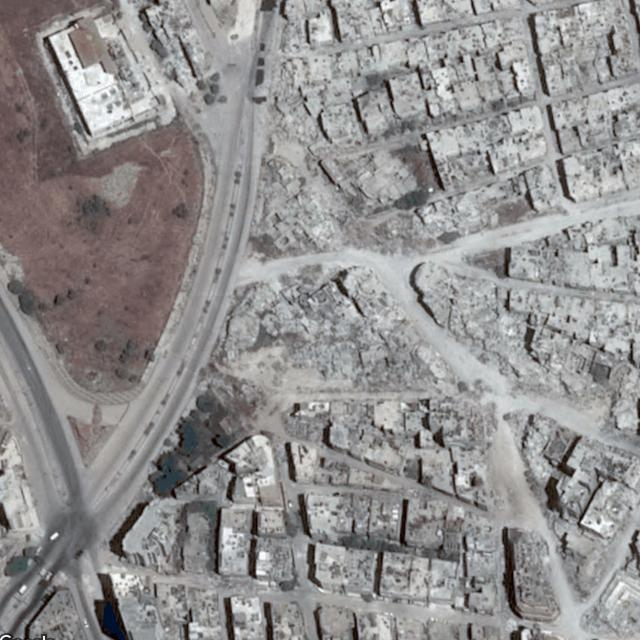damaged_building: (251, 49, 524, 252), (411, 261, 640, 434), (212, 265, 462, 397)
